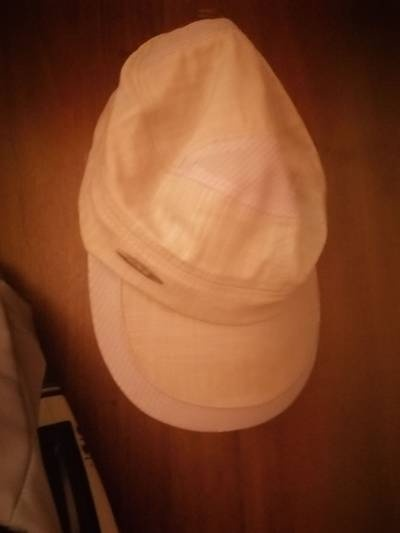Hat: (72, 20, 360, 443)
